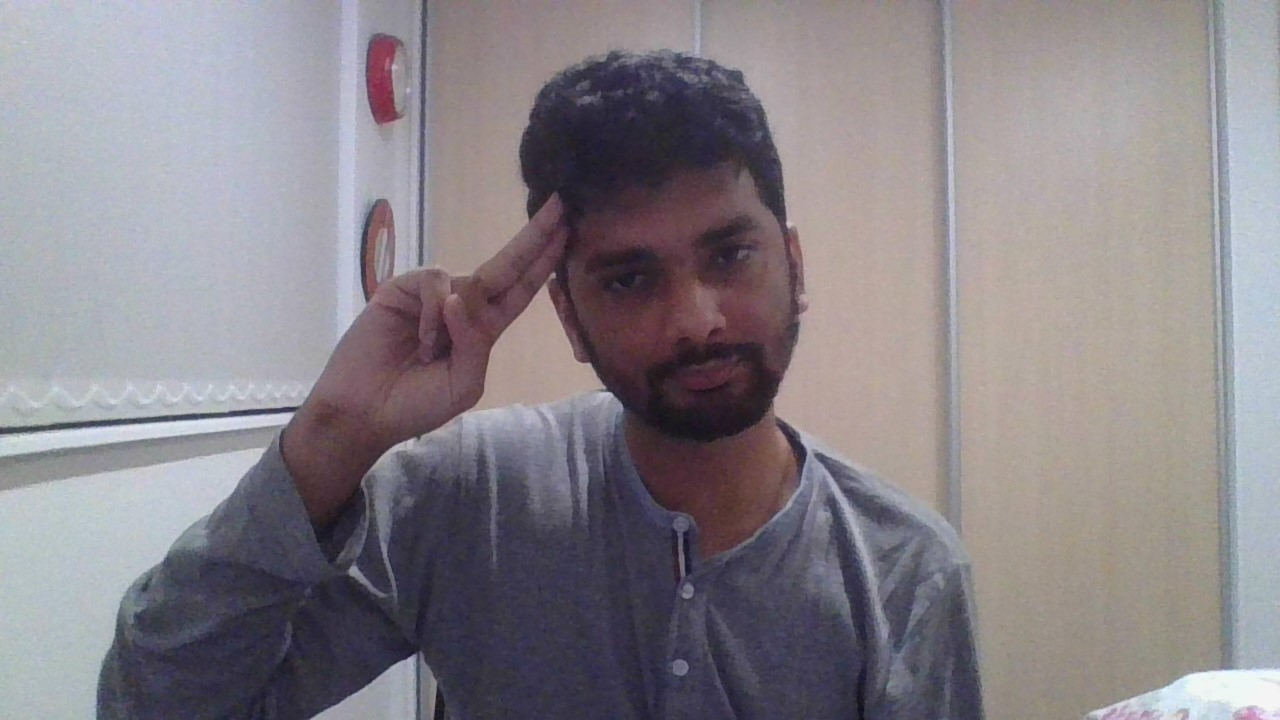peace: (311, 188, 568, 439)
